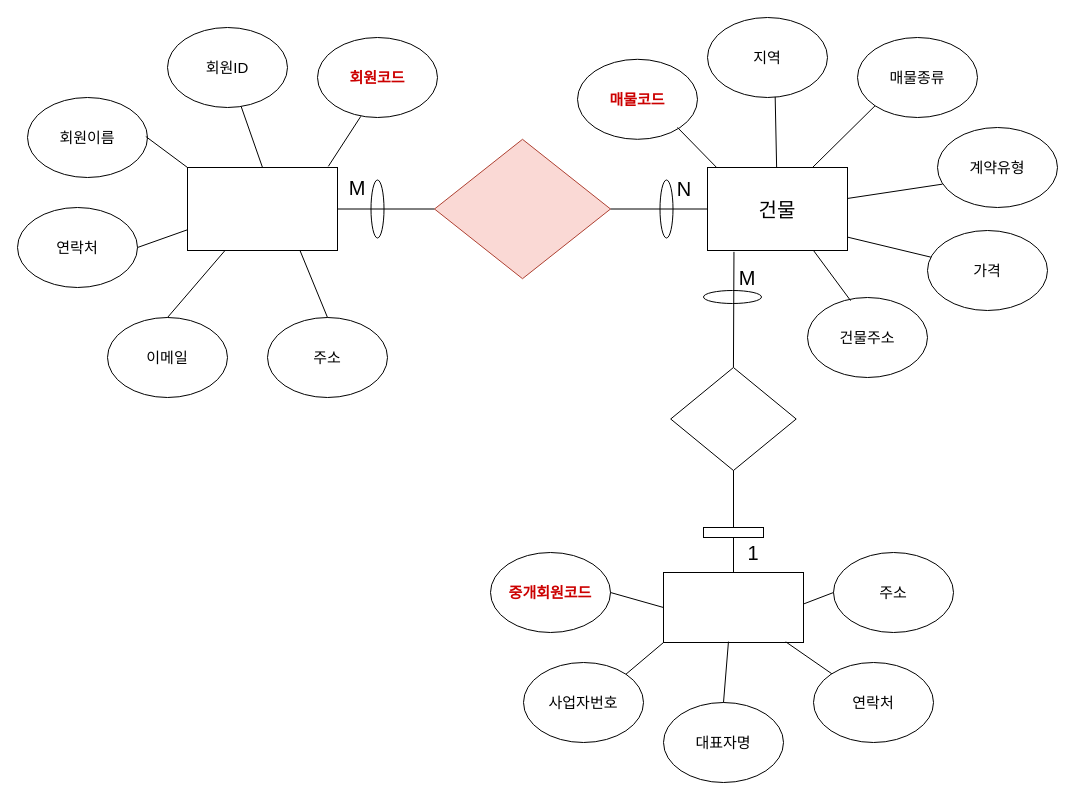
This 1075x800 diagram has some shape labels left out. Here are the shapes that lost their labels. From the top down, the centre of each, then its label:
pixel 262 208: 회원
pixel 522 208: 검색한다 예약한다
pixel 733 418: 등록한다
pixel 733 607: 중개사
